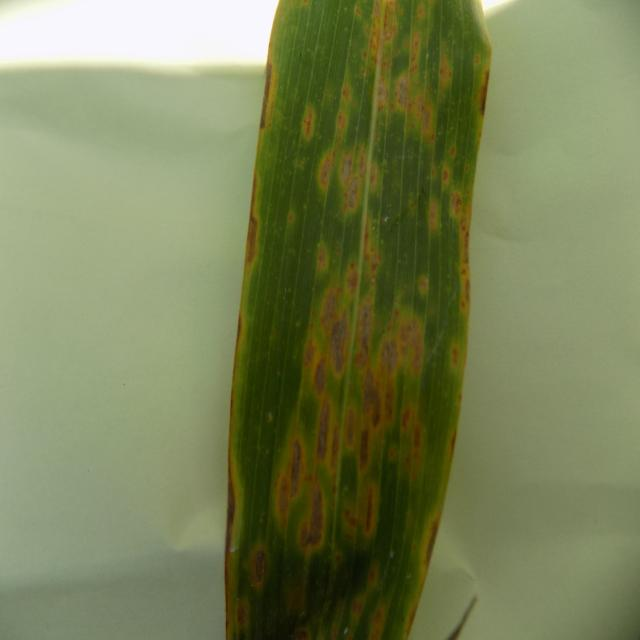millet_rust: (224, 0, 491, 639)
